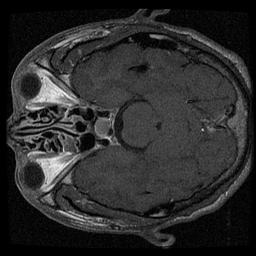pituitary tumour: (94, 117, 112, 139)
